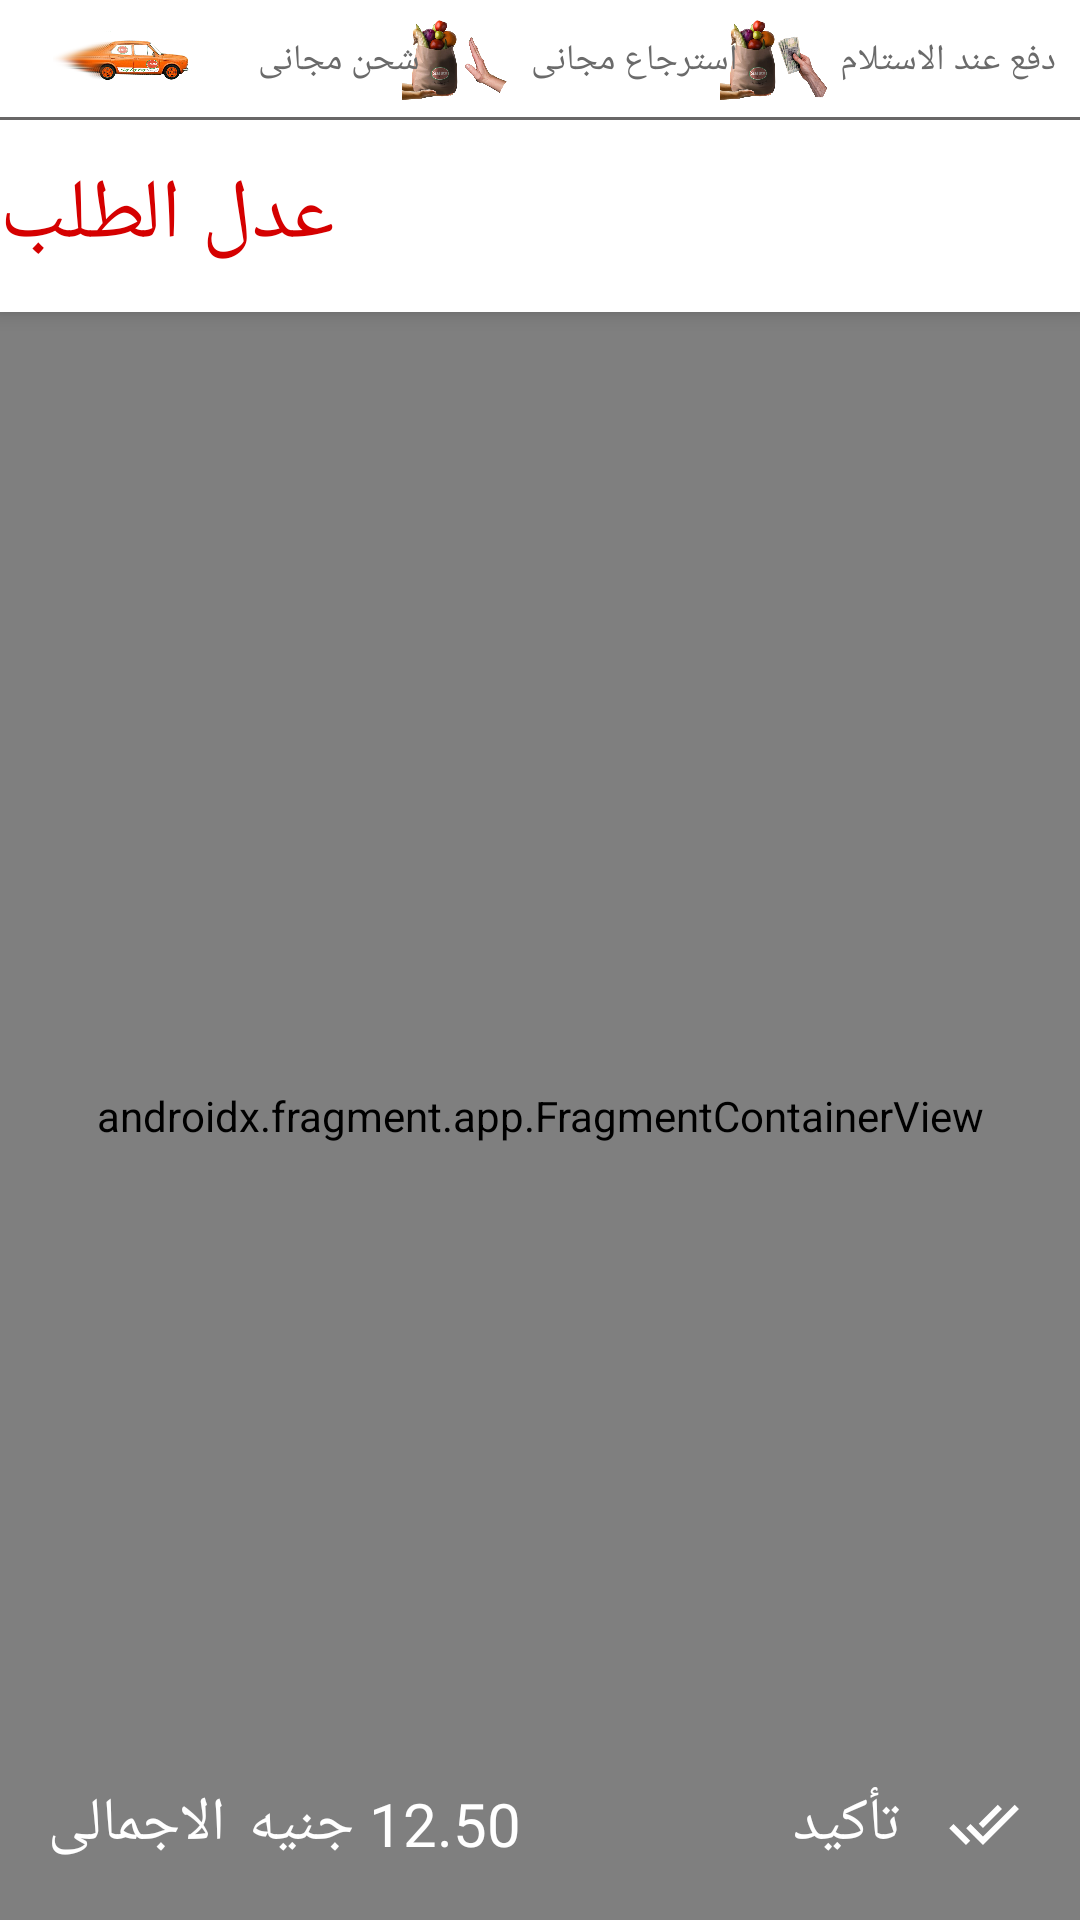

Icons on this 1080x1920 Android screen, each with the point to tap as (x=x, y=y):
cash: (x=773, y=60)
freereturn: (x=454, y=60)
